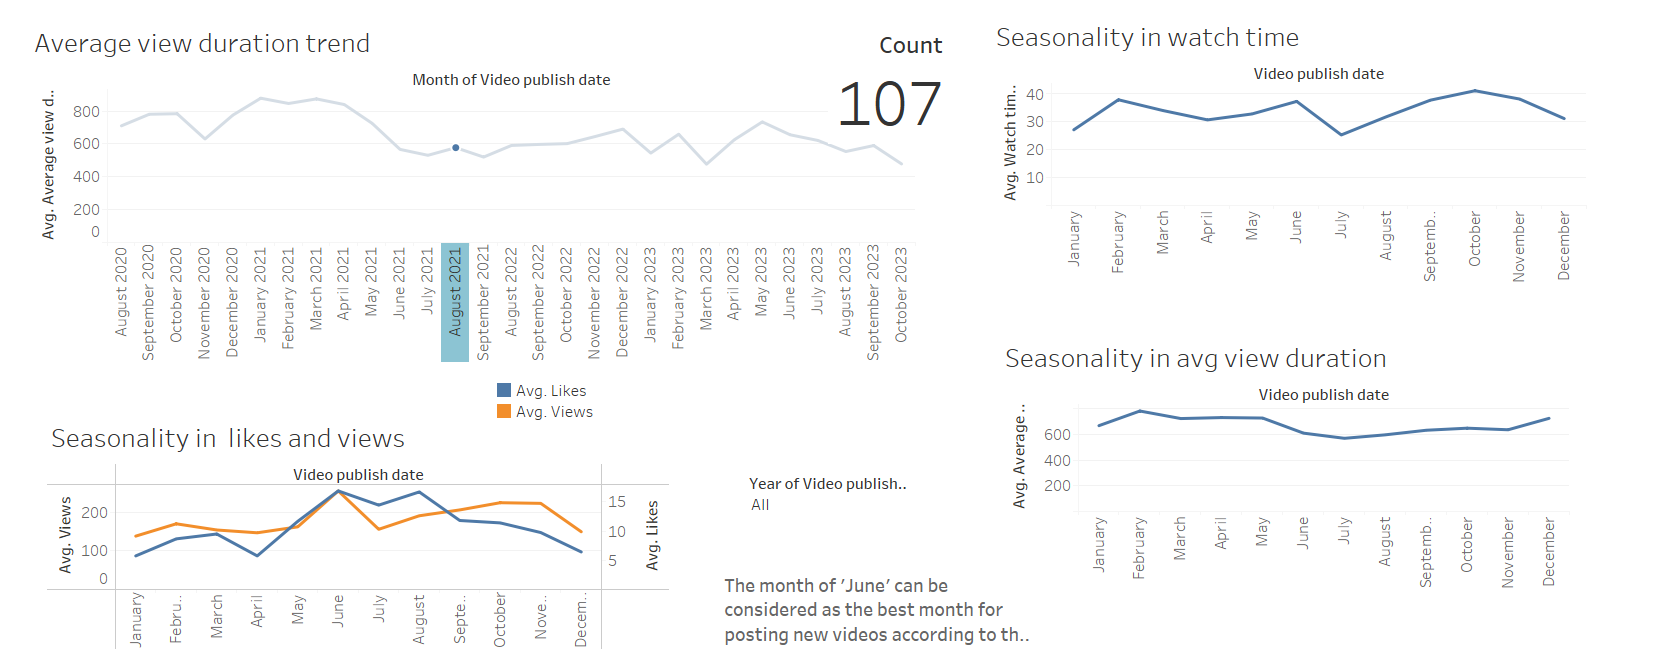

What the dashboard file says about the page in this screenshot:
{"tool":"tableau","page":{"name":"Dashboard 1","canvas":[1000,1000],"units":"permille","ordinal":0},"visuals":[{"type":"worksheet","title":"Sheet 6","mark":"Automatic","box":[499.7,20.2,82.1,198.6]},{"type":"worksheet","title":"Seasonality in watch time","mark":"Automatic","rows":["Watch time (hours)"],"cols":["Video publish date"],"box":[598.7,20.2,358.5,411.4]},{"type":"worksheet","title":"Average view duration trend","mark":"Automatic","rows":["Calculation_262053226787483653"],"cols":["Video publish date"],"box":[18.1,28.5,534.1,518.4]},{"type":"worksheet","title":"Seasonality in avg view duration","mark":"Automatic","rows":["Calculation_262053226787483653"],"cols":["Video publish date"],"box":[604.1,505.4,342.8,388.8]},{"type":"legend","title":"Seasonality in  likes and views","param":"[federated.0ubtlob07q4sw3130txsp1i1i5ok].[:Measure Names]","box":[298.1,574.3,88.1,93.9]},{"type":"worksheet","title":"Seasonality in  likes and views","mark":"Automatic","rows":["Views","Likes"],"cols":["Video publish date"],"box":[28.4,626.6,376,356.7]},{"type":"filter","title":"Seasonality in avg view duration","param":"[federated.0ubtlob07q4sw3130txsp1i1i5ok].[yr:Video publish date:ok]","box":[452,714.6,96.6,72.5]},{"type":"text","box":[435.1,857.3,188.9,129.6]}]}

Visuals, with their boxes on the dashboard's canvas, which has no fixed pixel size, in thousandths of its width and height (x1, y1, x2, y2). These are canvas units, not pixel positions in the 1657x661 screenshot, which may show the page scaled, cropped or inside an application window:
"Sheet 6" worksheet: bbox=[500, 20, 582, 219]
"Seasonality in watch time" worksheet: bbox=[599, 20, 957, 432]
"Average view duration trend" worksheet: bbox=[18, 28, 552, 547]
"Seasonality in avg view duration" worksheet: bbox=[604, 505, 947, 894]
"Seasonality in  likes and views" legend: bbox=[298, 574, 386, 668]
"Seasonality in  likes and views" worksheet: bbox=[28, 627, 404, 983]
"Seasonality in avg view duration" filter: bbox=[452, 715, 549, 787]
text: bbox=[435, 857, 624, 987]
